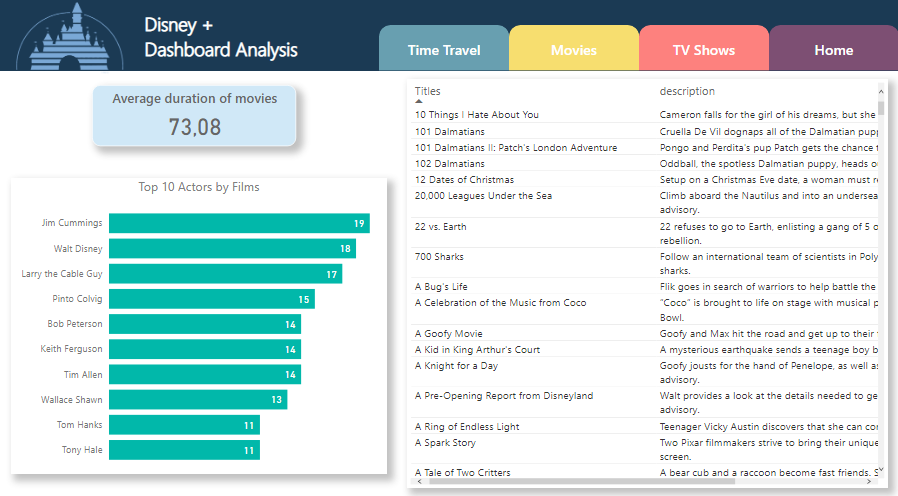

The dashboard page shown, as its layout file describes it:
{"tool":"powerbi","page":{"name":"Movies","canvas":[1280,720],"ordinal":2},"visuals":[{"type":"shape","box":[0,102.2,1279.5,617.8],"z":0},{"type":"actionButton","box":[541.1,36.9,184.6,65.3],"z":1000},{"type":"actionButton","box":[725.7,36.9,184.6,65.3],"z":2000},{"type":"actionButton","box":[910.3,36.9,184.6,65.3],"z":3000},{"type":"actionButton","box":[1094.9,36.9,184.6,65.3],"z":4000},{"type":"textbox","box":[203.1,11.4,259.9,89.5],"z":7000,"group":"g1"},{"type":"barChart","title":"Top 10 Actors by Films","fields":{"Category":["actors.Actor"],"Y":["CountNonNull(actors.show_id)"]},"box":[18.5,254.2,534,420.4],"z":7000},{"type":"card","title":"Average duration of movies","fields":{"Values":["medidas.AVG Duration Movies"]},"box":[133.5,122.1,289.7,86.6],"z":8000},{"type":"group","id":"g1","title":"Grupo 1","box":[18.5,0,444.5,113.6],"z":8001},{"type":"tableEx","fields":{"Values":["disney_plus_titles.title","disney_plus_titles.description"]},"box":[580.8,113.6,683.1,580.8],"z":8002},{"type":"image","box":[18.5,0,167.6,113.6],"z":13000,"group":"g1"}]}

Visuals, with their boxes in screenshot pixels (x1, y1, x2, y2), scaled from the page's 1280x720 canvas onto the 898x496 screenshot:
shape: locate(0, 70, 897, 495)
actionButton: locate(380, 25, 509, 70)
actionButton: locate(509, 25, 639, 70)
actionButton: locate(639, 25, 768, 70)
actionButton: locate(768, 25, 897, 70)
textbox: locate(142, 8, 325, 70)
"Top 10 Actors by Films" barChart: locate(13, 175, 388, 465)
"Average duration of movies" card: locate(94, 84, 297, 144)
"Grupo 1" group: locate(13, 0, 325, 78)
tableEx - disney_plus_titles.title x disney_plus_titles.description: locate(407, 78, 887, 478)
image: locate(13, 0, 131, 78)
